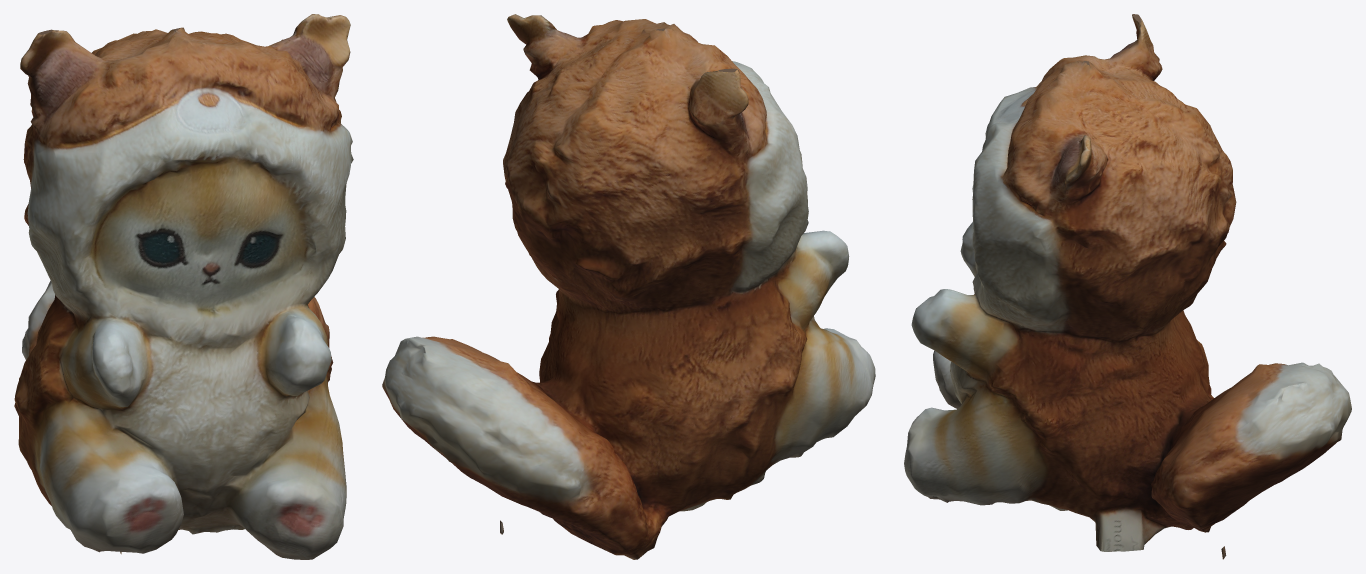
Rendered from 3DModel_LowPoly.glb.
3 views of the same model, side by side, from view 1: azimuth 30°, elevation 25°; view 2: azimuth 150°, elevation 25°; view 3: azimuth 270°, elevation 25° (orthographic). The views are drawn at different scales.
Visible parts, largest first — view 1: 3DModel_LowPoly; view 2: 3DModel_LowPoly; view 3: 3DModel_LowPoly.
Part boxes in pixels (x1,y1,x2,y2): 3DModel_LowPoly: (14, 14, 353, 559); 3DModel_LowPoly: (382, 14, 875, 559); 3DModel_LowPoly: (904, 14, 1351, 559).
Size of the model in its own units: 0.2292 by 0.3054 by 0.2708.
Materials: 1 (1 with a texture image).
